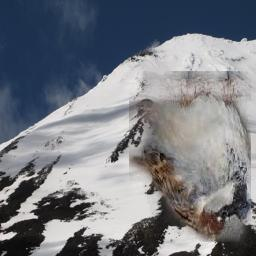Sparrow: (129, 72, 251, 243)
